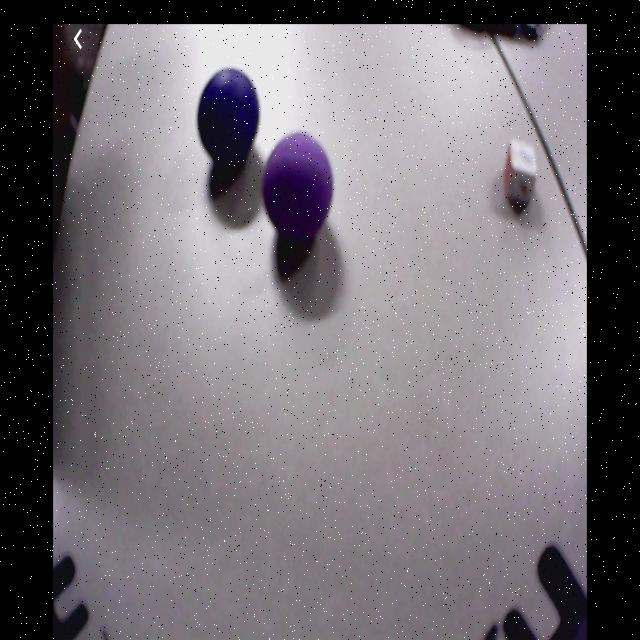ball: (263, 133, 333, 236), (199, 68, 260, 160)
